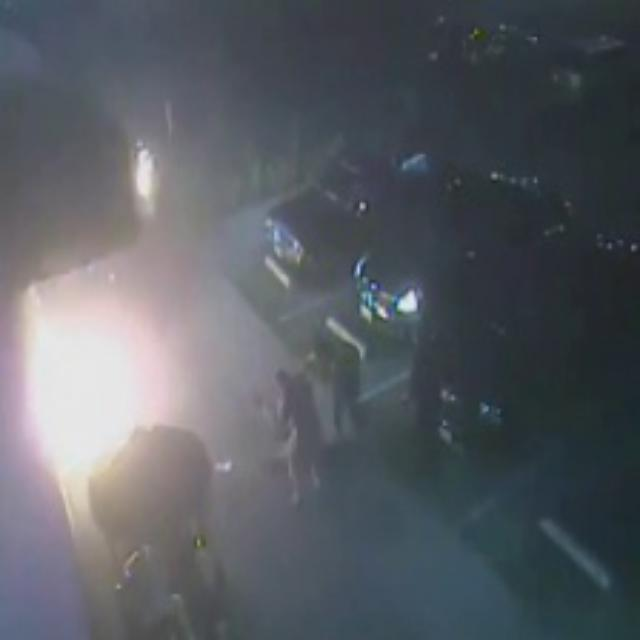fire: (32, 334, 128, 456)
smoke: (173, 0, 631, 265), (234, 505, 588, 605), (0, 5, 165, 111), (197, 291, 279, 359)
